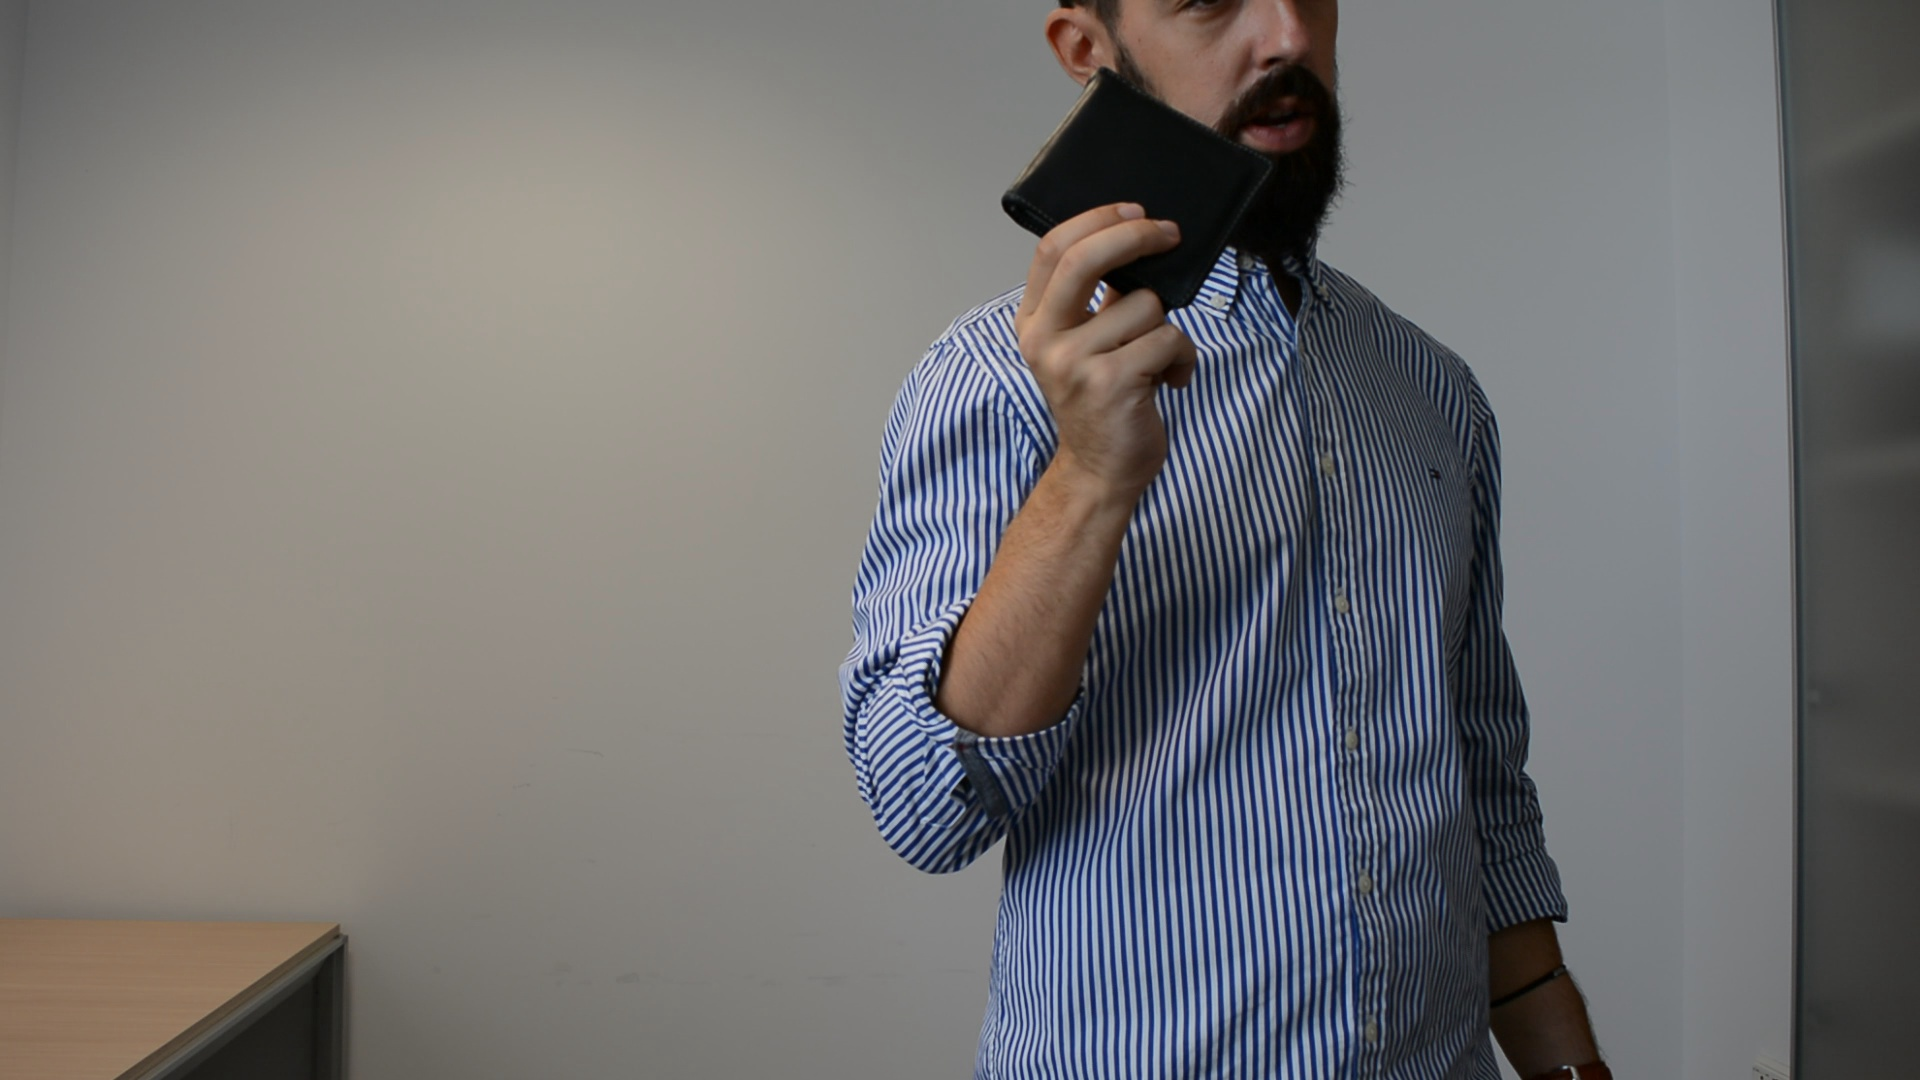monedero: (994, 62, 1278, 318)
